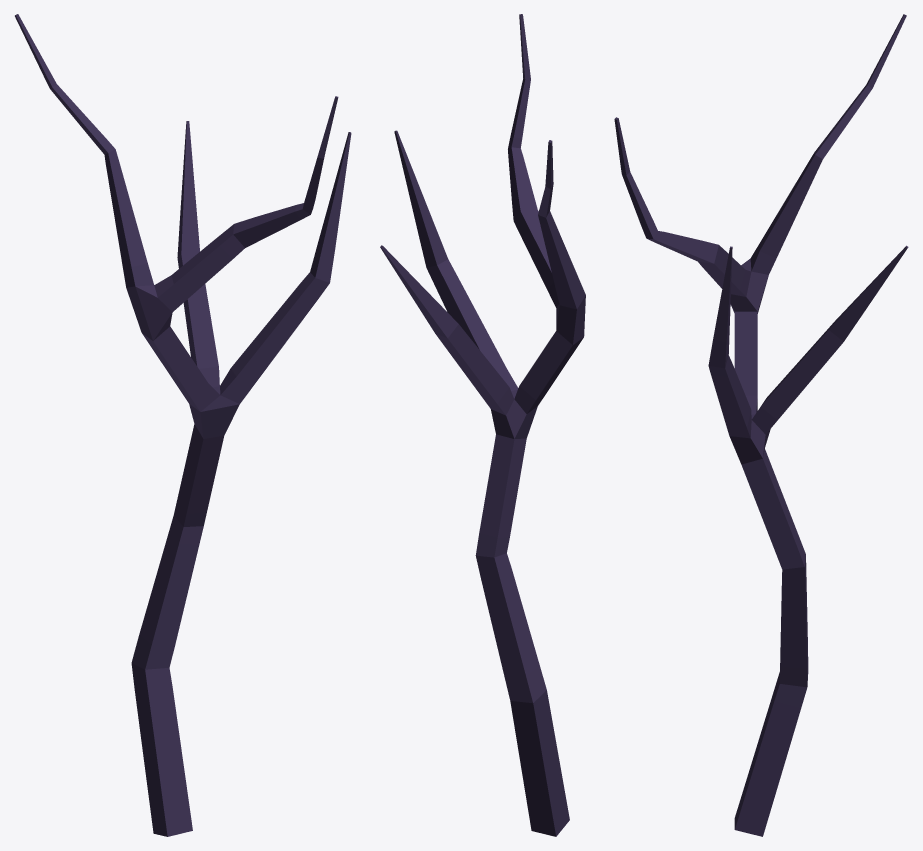
The model's file is vinetreeBetween.fbx.
The picture shows the model from 3 angles, left to right: view 1: azimuth 30°, elevation 25°; view 2: azimuth 150°, elevation 25°; view 3: azimuth 270°, elevation 25°; orthographic projection. The views are drawn at different scales.
Visible parts, largest first — view 1: Cube; view 2: Cube; view 3: Cube.
Boxes of the visible parts, box(x1,y1,x2,y2) form: Cube: box(15, 14, 351, 836); Cube: box(380, 14, 585, 836); Cube: box(614, 14, 908, 836).
Size of the model in its own units: 145 by 437 by 149.
